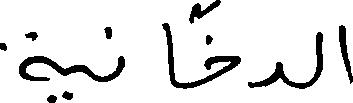X: (0, 27, 52, 102), (204, 0, 239, 88), (252, 57, 283, 92), (338, 20, 352, 88), (164, 18, 175, 91), (117, 51, 125, 81), (317, 27, 321, 84), (77, 60, 88, 80)
